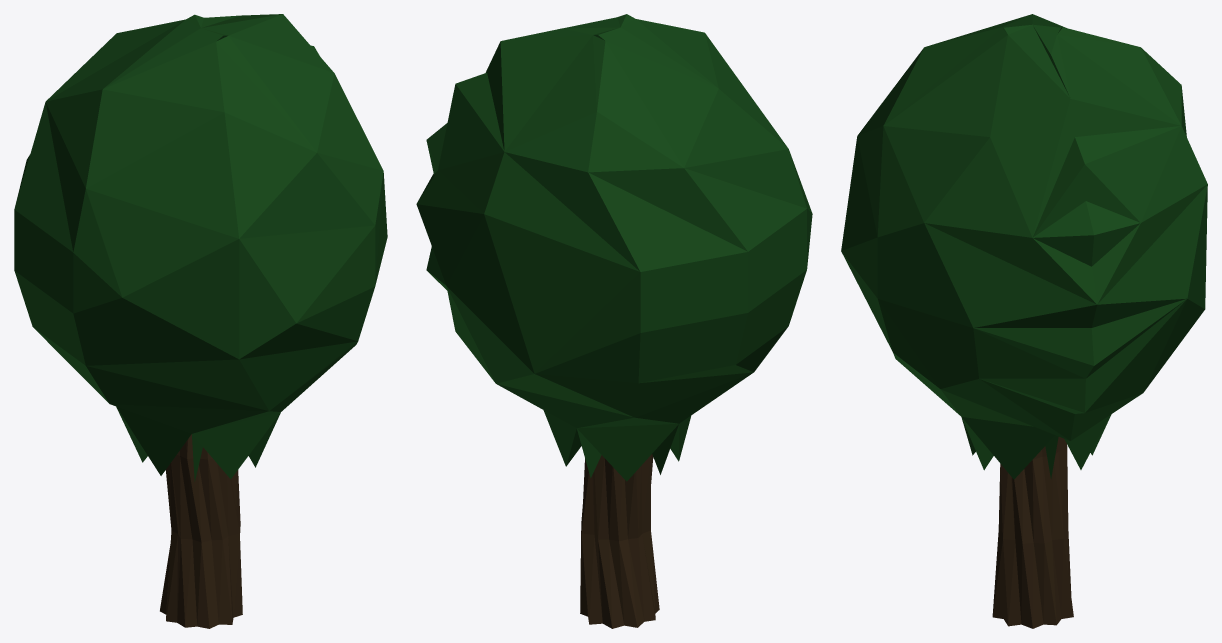
Rendered from NormalTree_Green.fbx.
The picture shows the model from 3 angles, left to right: view 1: azimuth 30°, elevation 25°; view 2: azimuth 150°, elevation 25°; view 3: azimuth 270°, elevation 25°; orthographic projection.
Parts seen in each view (by area): view 1: Trees:pSphere1, Trees:pCylinder1; view 2: Trees:pSphere1, Trees:pCylinder1; view 3: Trees:pSphere1, Trees:pCylinder1.
Boxes of the visible parts, box(x1,y1,x2,y2) form: Trees:pSphere1: box(14, 14, 387, 481); Trees:pCylinder1: box(160, 434, 242, 628); Trees:pSphere1: box(416, 14, 812, 481); Trees:pCylinder1: box(580, 454, 659, 628); Trees:pSphere1: box(841, 14, 1207, 479); Trees:pCylinder1: box(992, 437, 1073, 628).
Bounding box in the file's own units: 0.171 × 0.291 × 0.1645.
